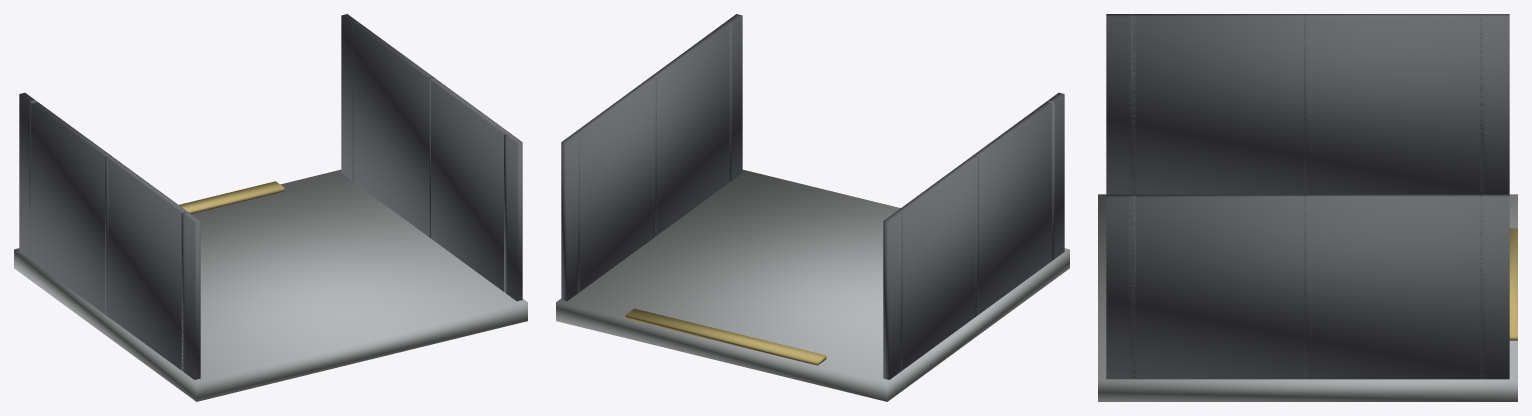
The model's file is floor_w220_d210_sides.glb.
The picture shows the model from 3 angles, left to right: view 1: azimuth 30°, elevation 25°; view 2: azimuth 150°, elevation 25°; view 3: azimuth 270°, elevation 25°; orthographic projection. The views are drawn at different scales.
Parts seen in each view (by area): view 1: world; view 2: world; view 3: world.
Part boxes in pixels (box(x1,y1,x2,y2)): world: box(14, 14, 527, 401); world: box(556, 14, 1069, 401); world: box(1098, 14, 1517, 401).
Bounding box in the file's own units: 2.2 × 1.12 × 2.1.
